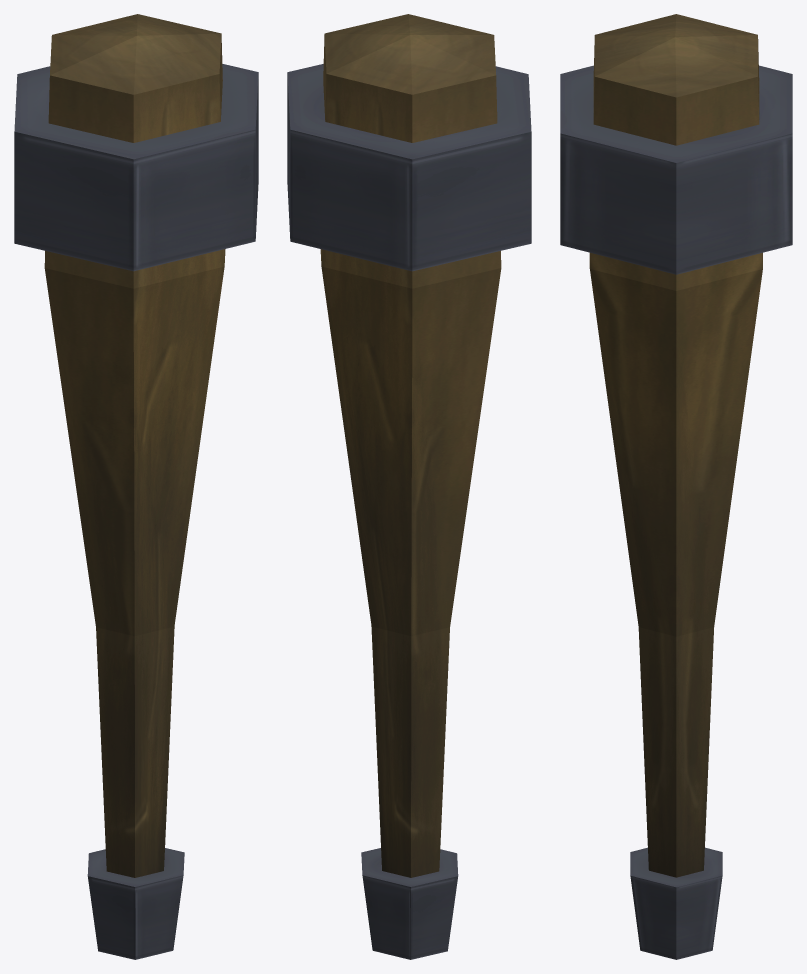
Rendered from cudgel_lvl_01.fbx.
3 renders of one model, left to right at view 1: azimuth 30°, elevation 25°; view 2: azimuth 150°, elevation 25°; view 3: azimuth 270°, elevation 25°, orthographic.
Visible parts, largest first — view 1: cudgel_lvl_01; view 2: cudgel_lvl_01; view 3: cudgel_lvl_01.
Part boxes in pixels (x1,y1,x2,y2): cudgel_lvl_01: (14, 14, 258, 959); cudgel_lvl_01: (287, 14, 531, 959); cudgel_lvl_01: (560, 14, 792, 959).
Size of the model in its own units: 1.62 by 5.76 by 1.34.
